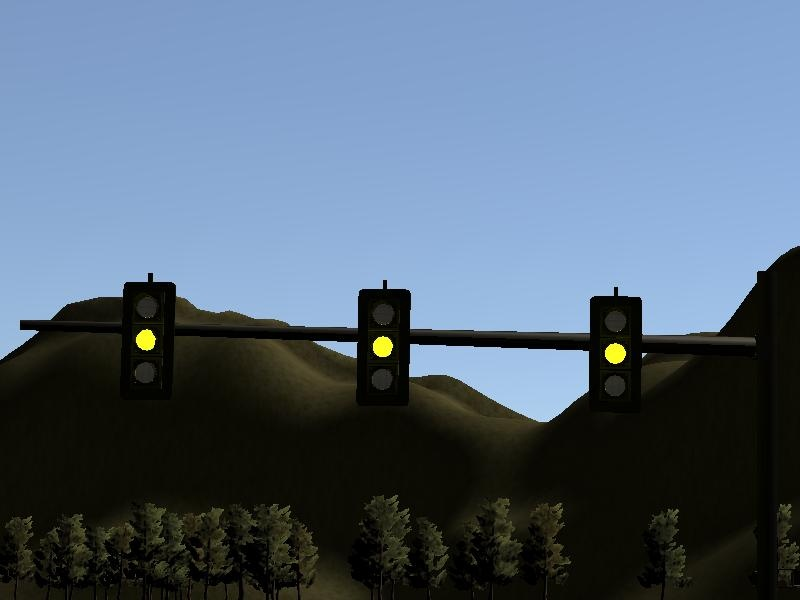yellow: (588, 292, 645, 426), (355, 288, 411, 411), (120, 278, 175, 401)
